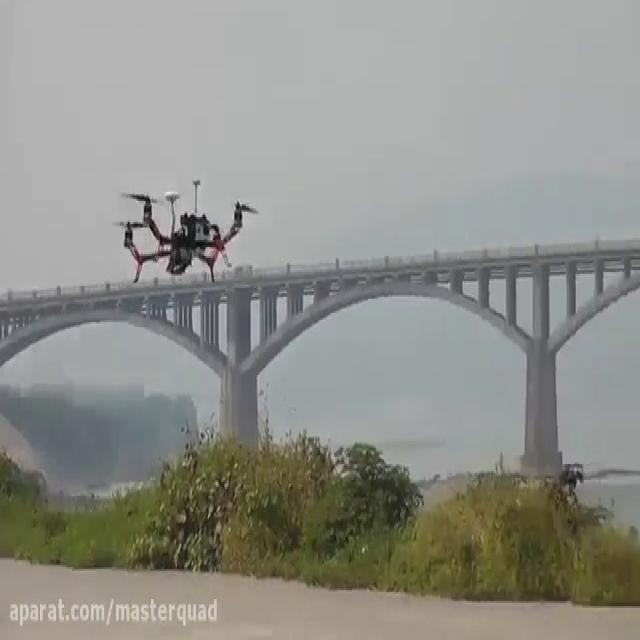drone: (110, 172, 262, 284)
